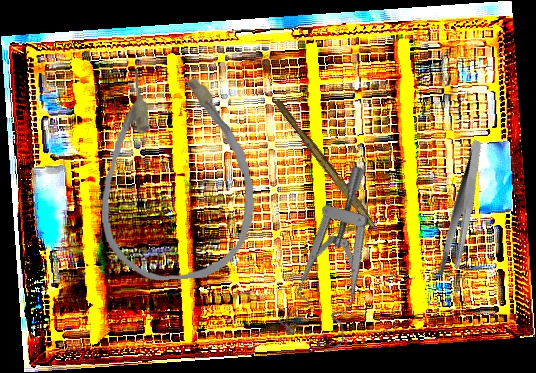Cannula: (94, 63, 258, 283)
Dressing Forceps: (409, 138, 517, 282)
Scalpel Handle: (271, 98, 380, 229)
Speculum: (247, 163, 435, 364)
